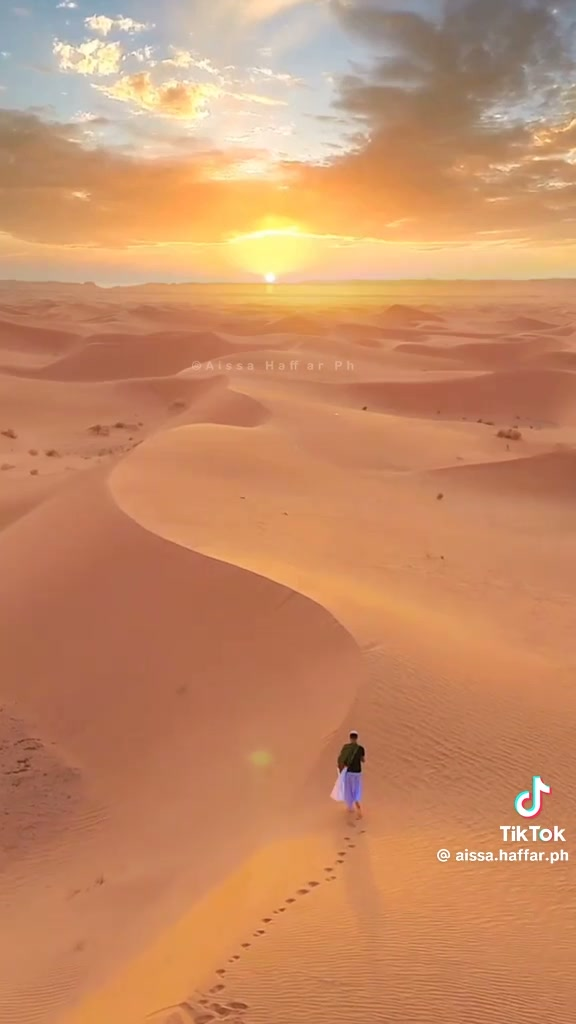human_foot_print: (148, 968, 247, 1023), (147, 994, 248, 1023), (271, 880, 321, 914), (209, 983, 225, 994), (253, 929, 263, 936)
